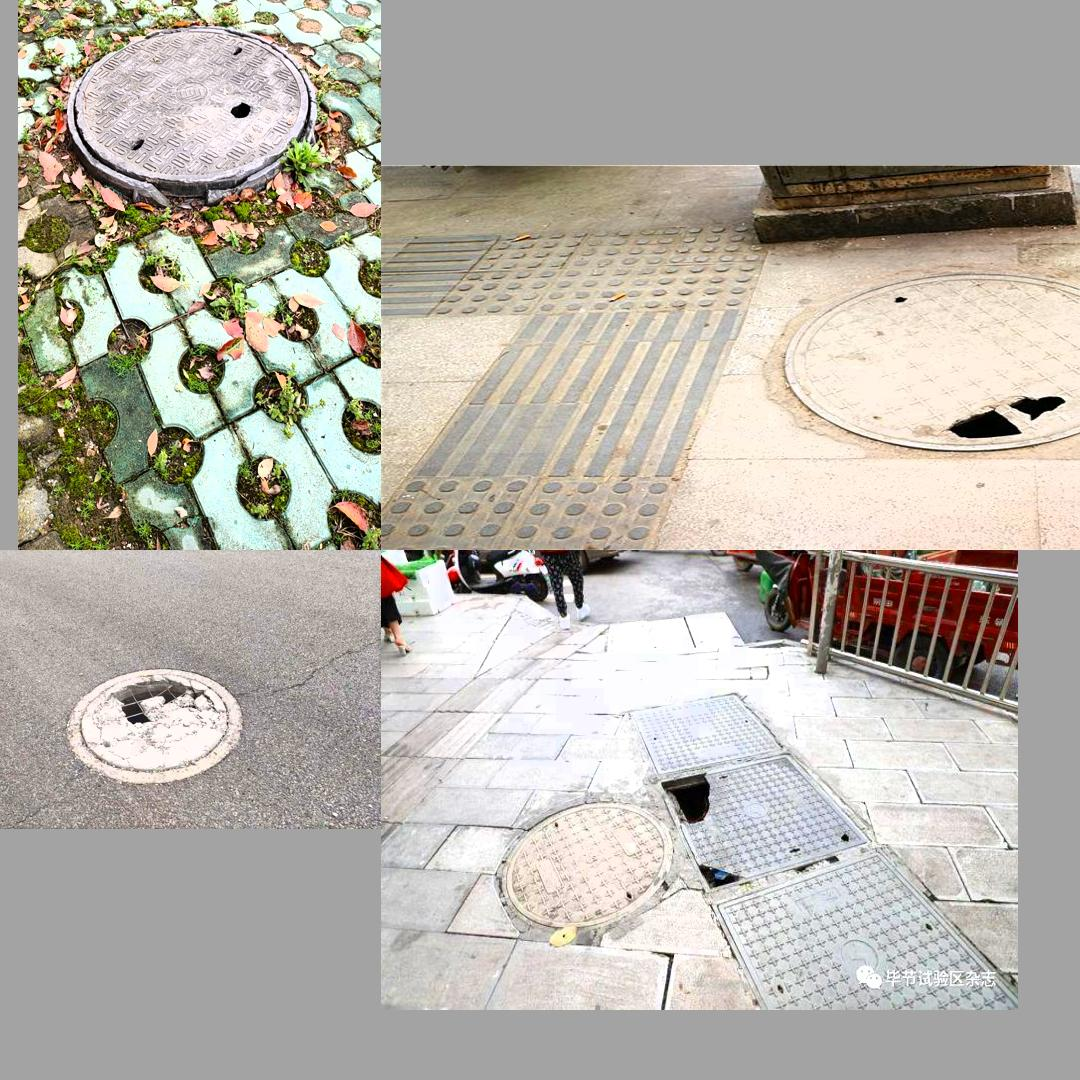broke: (784, 269, 1080, 450), (66, 23, 320, 208), (656, 762, 878, 893), (63, 666, 245, 787)
